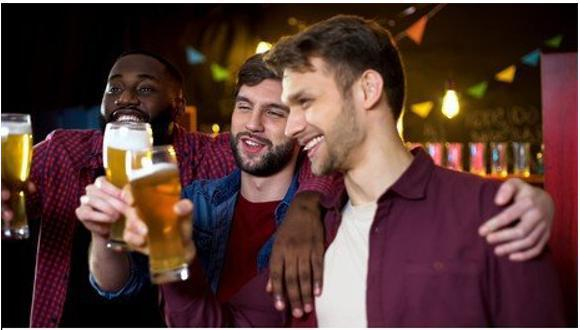Drunk: (281, 67, 356, 175), (97, 59, 168, 132), (231, 84, 287, 171)
